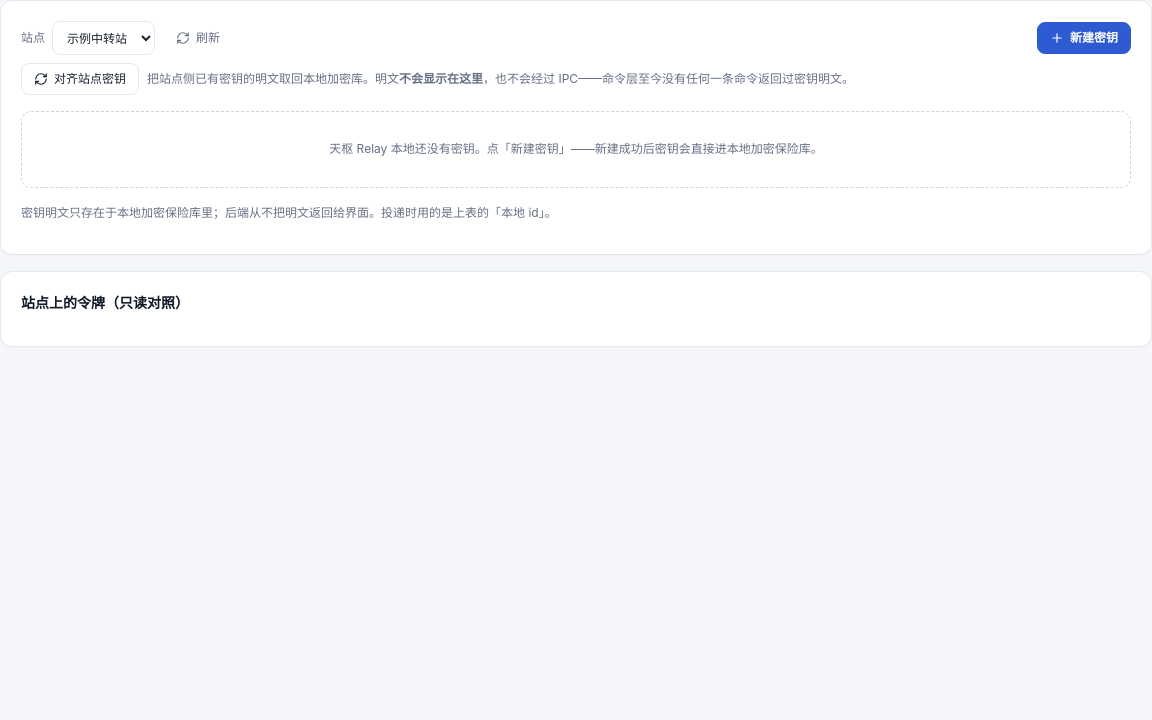
Scenario: M19-S1 密钥分组绑定 › 站点没有分组概念（caps.groups=false）时不误报
This screenshot has width=1152, height=720.
Step 1. Click the button "新建密钥" → (1084, 38), box left=1037, top=22, right=1131, bottom=54
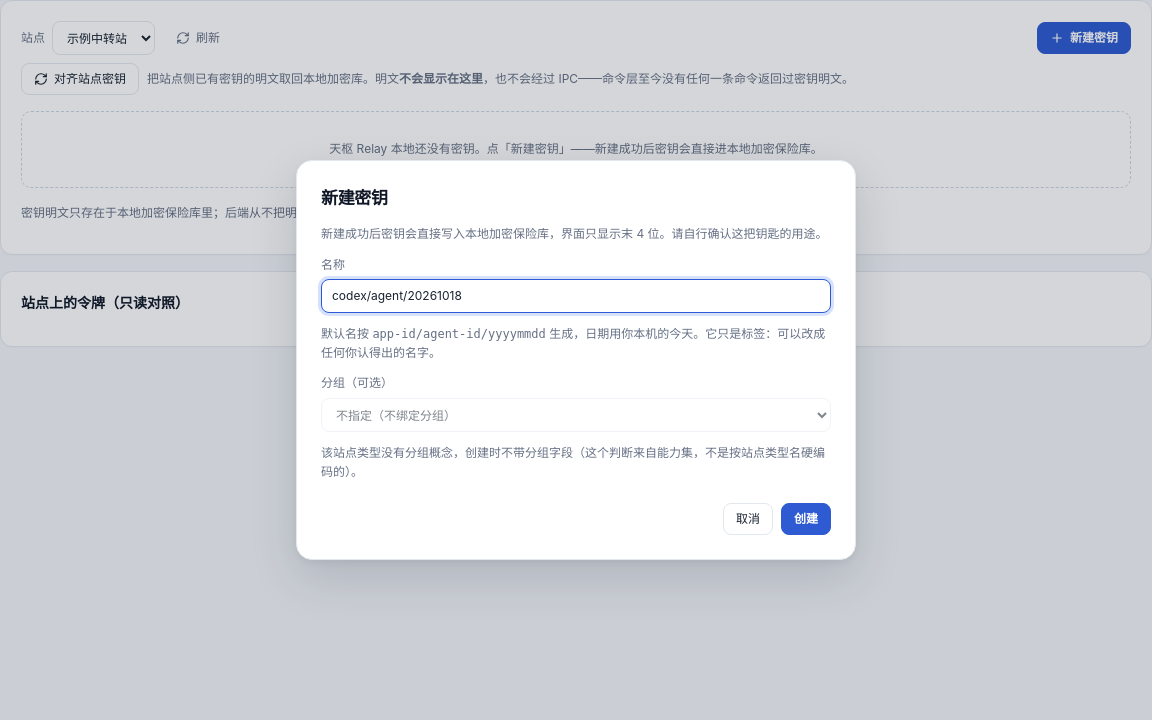
Now the dropdown labelled "分组（可选）" is disabled, box left=321, top=398, right=831, bottom=432
Now the text "该站点类型没有分组概念，创建时不带分组字段（这个判断来自能力集，不是按站点类型名硬编码的）。" is shown, box left=321, top=444, right=831, bottom=481
